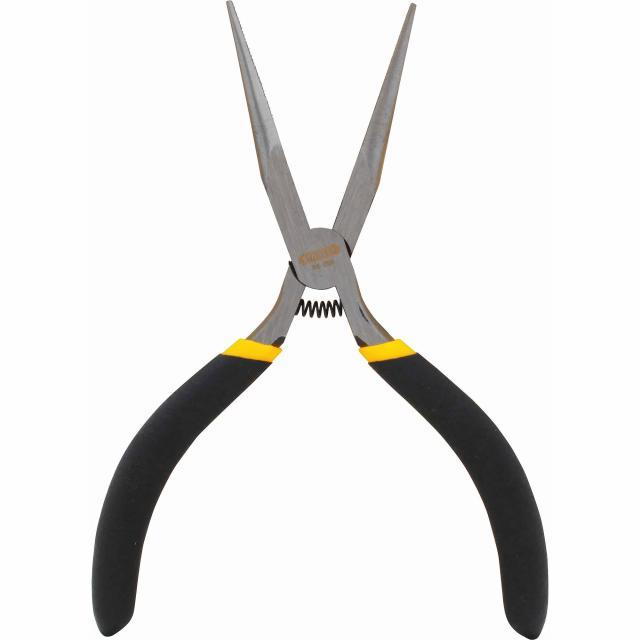pliers: (81, 0, 555, 640)
